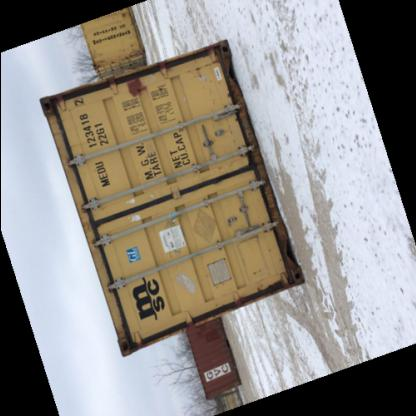Damage: (108, 308, 156, 366), (208, 41, 242, 115), (37, 83, 66, 159), (268, 228, 300, 285), (121, 71, 149, 110)
